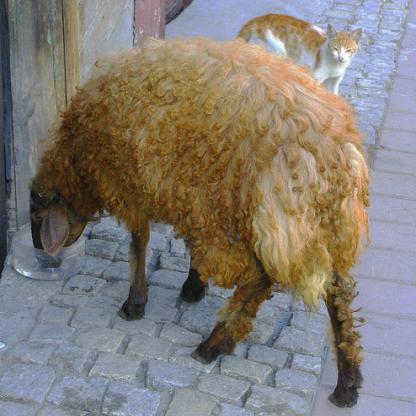cat: (237, 0, 361, 96)
sheep: (29, 39, 368, 408)
